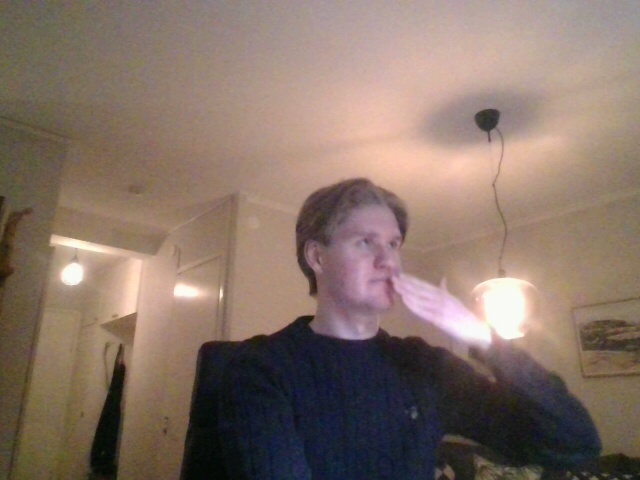ThankYou: (367, 272, 475, 345)
